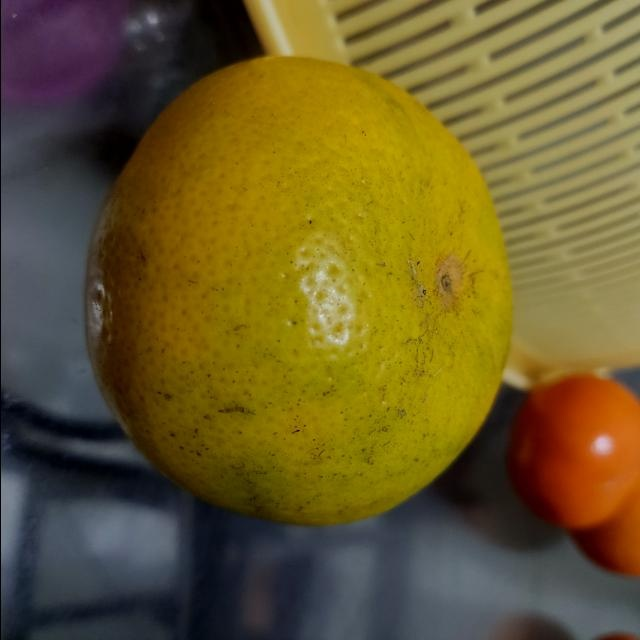agrume: (83, 52, 514, 532)
